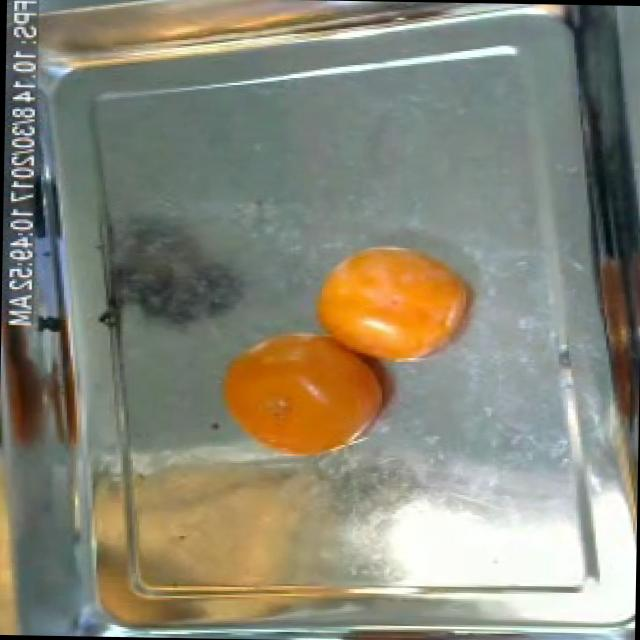Fruit: (203, 316, 407, 468), (297, 230, 493, 373)
